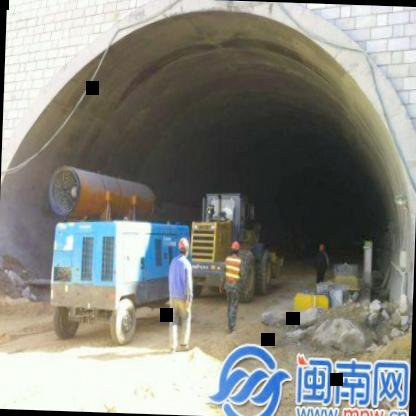helmet: (176, 235, 191, 257), (230, 241, 241, 257)
